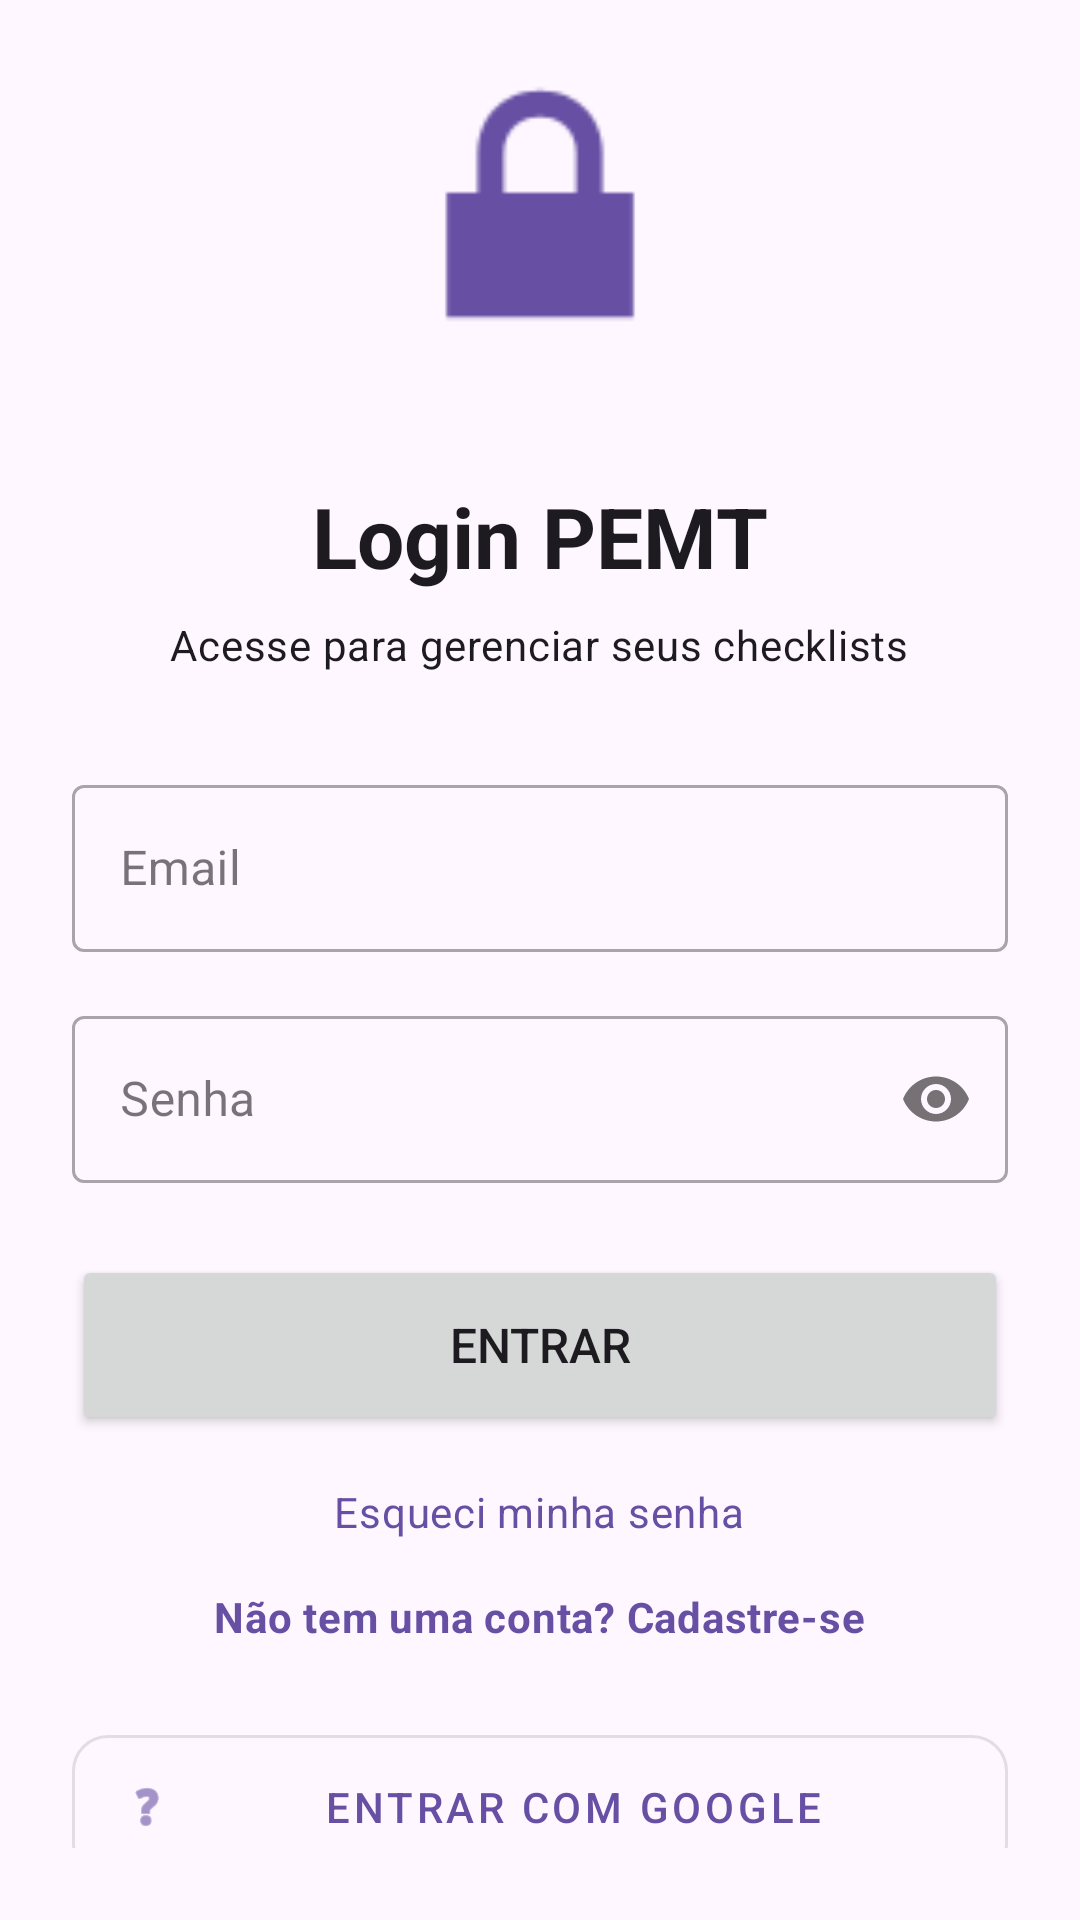

Named icons in this screenshot (1080×1920) and their centers, [x,y]:
lock: [540,204]
